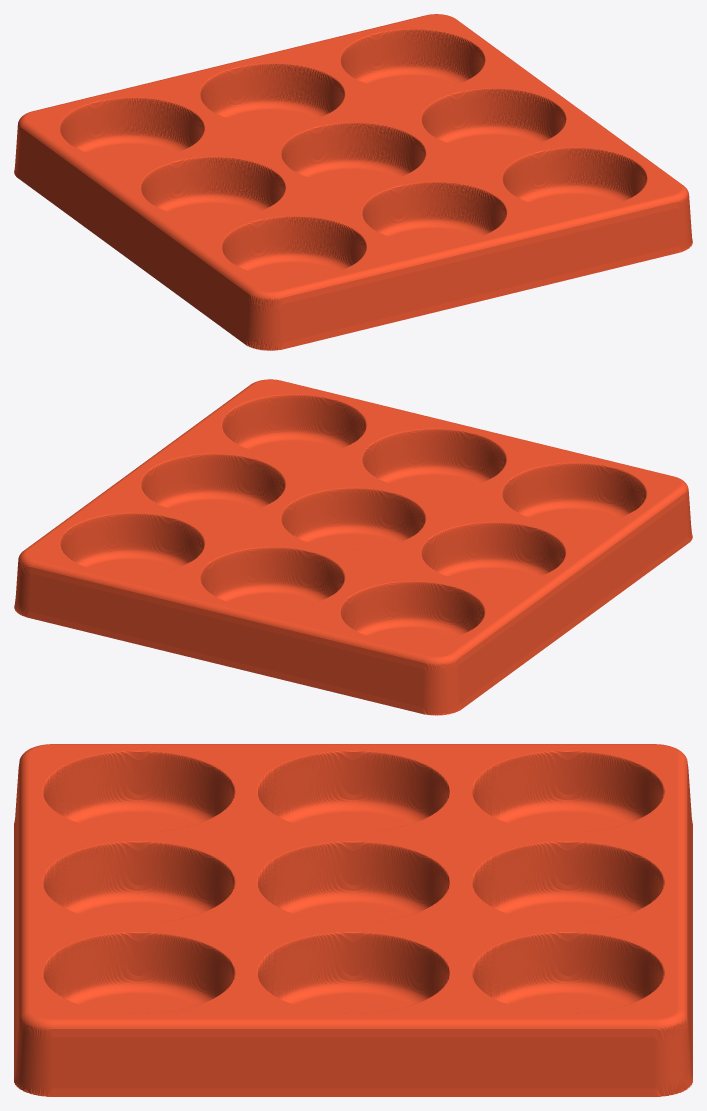
The model's file is mold.glb.
The picture shows the model from 3 angles, top to bottom: view 1: azimuth 30°, elevation 25°; view 2: azimuth 150°, elevation 25°; view 3: azimuth 270°, elevation 25°; orthographic projection. The views are drawn at different scales.
Visible parts, largest first — view 1: geometry_0; view 2: geometry_0; view 3: geometry_0.
Part boxes in pixels (bbox=[...]): geometry_0: bbox=[14, 14, 692, 350]; geometry_0: bbox=[14, 379, 692, 715]; geometry_0: bbox=[14, 744, 692, 1096].
Bounding box in the file's own units: 0.1595 × 0.0185 × 0.1595.
